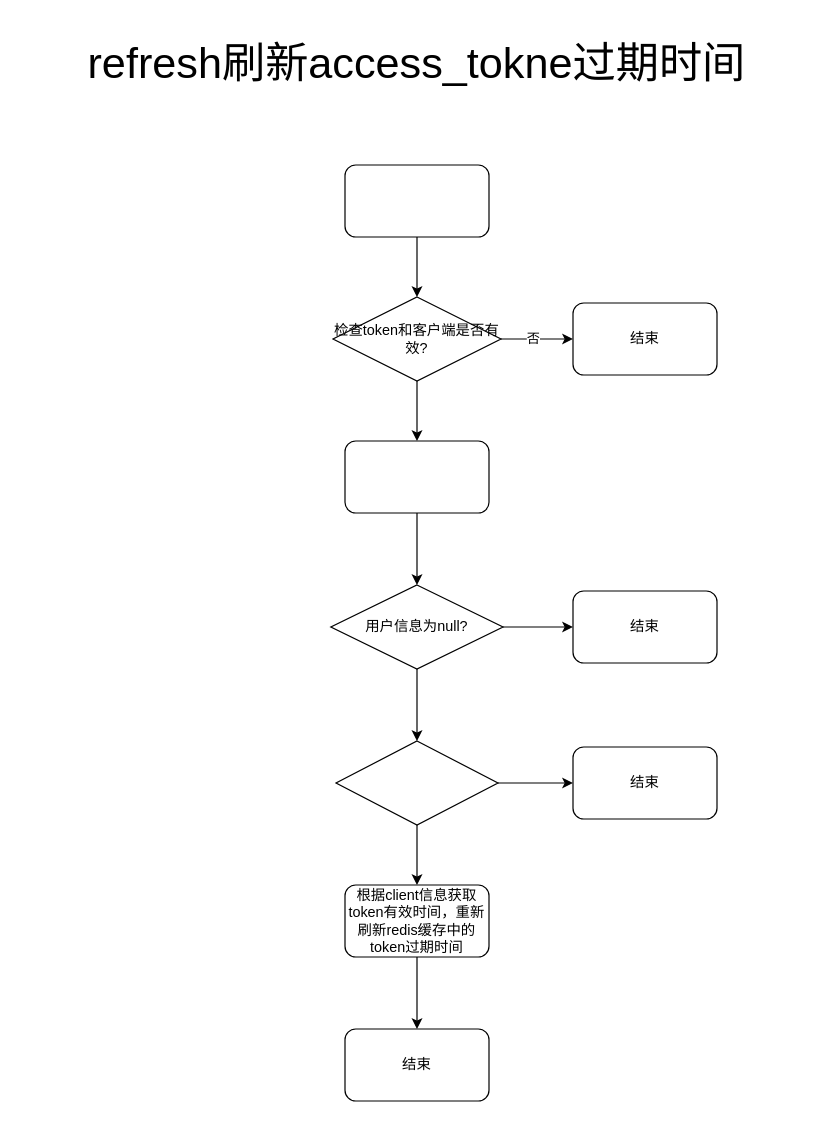
Image size: 833x1122. Some labels were removed from this diagram. Here are the shapes that lost their labels. From the top down, the box of each, then its label:
(344, 164, 489, 237): 开始
(344, 440, 489, 513): 根据rereshtoken找到userId,然后userId根据userid查询数据库
(335, 740, 498, 825): 根据refresh_token查找access_token是否为null?
